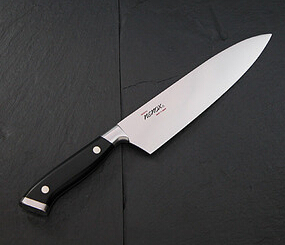knief: (23, 24, 273, 219)
